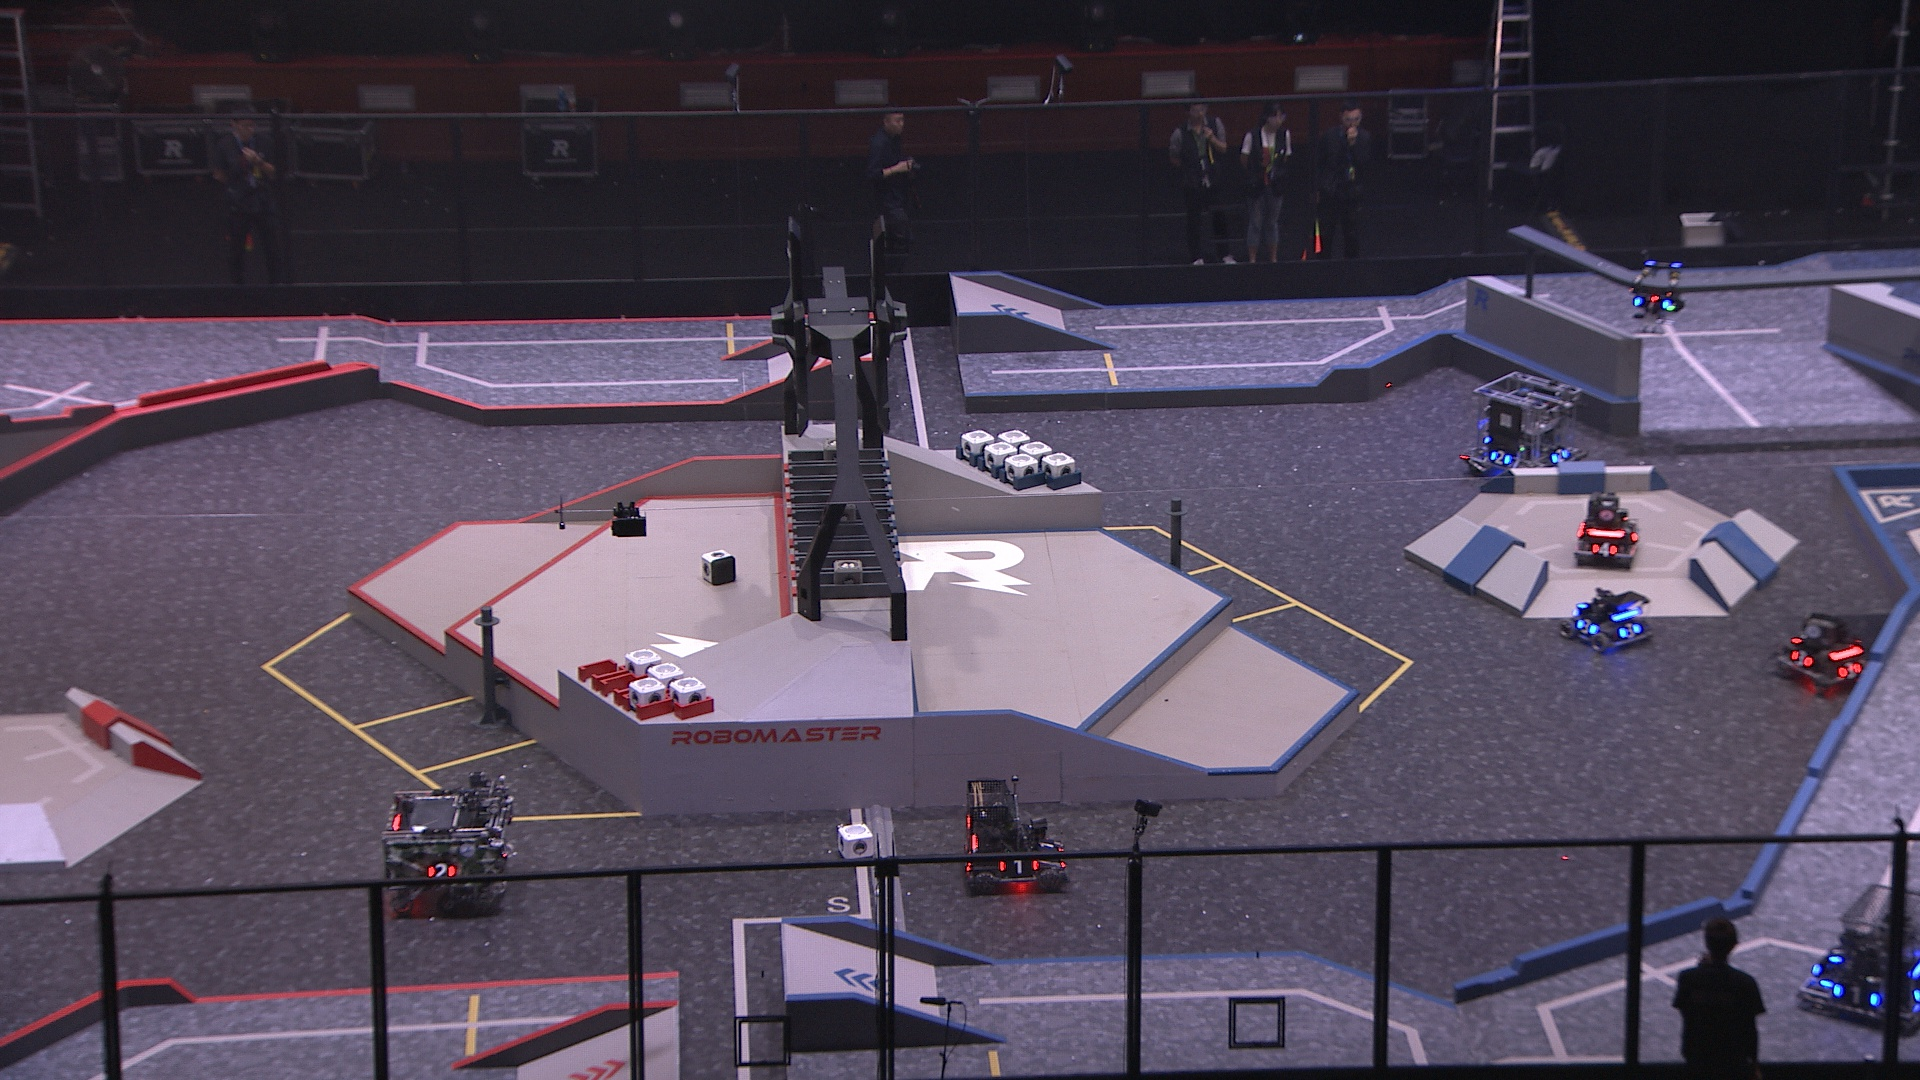armor: (1830, 981, 1882, 1011), (994, 851, 1040, 877), (1633, 291, 1676, 315), (423, 858, 460, 884), (1588, 537, 1618, 560), (1832, 659, 1866, 679), (1572, 615, 1600, 638), (1789, 644, 1815, 669), (1825, 939, 1849, 964), (1486, 446, 1510, 469), (1547, 444, 1569, 465), (1040, 833, 1059, 858), (1619, 618, 1640, 640)
car: (1803, 878, 1920, 1039), (384, 771, 508, 922), (1466, 371, 1586, 480), (964, 774, 1068, 897), (1774, 605, 1876, 699), (1556, 585, 1656, 654), (1571, 485, 1643, 568)
watcher: (1623, 244, 1688, 338)
